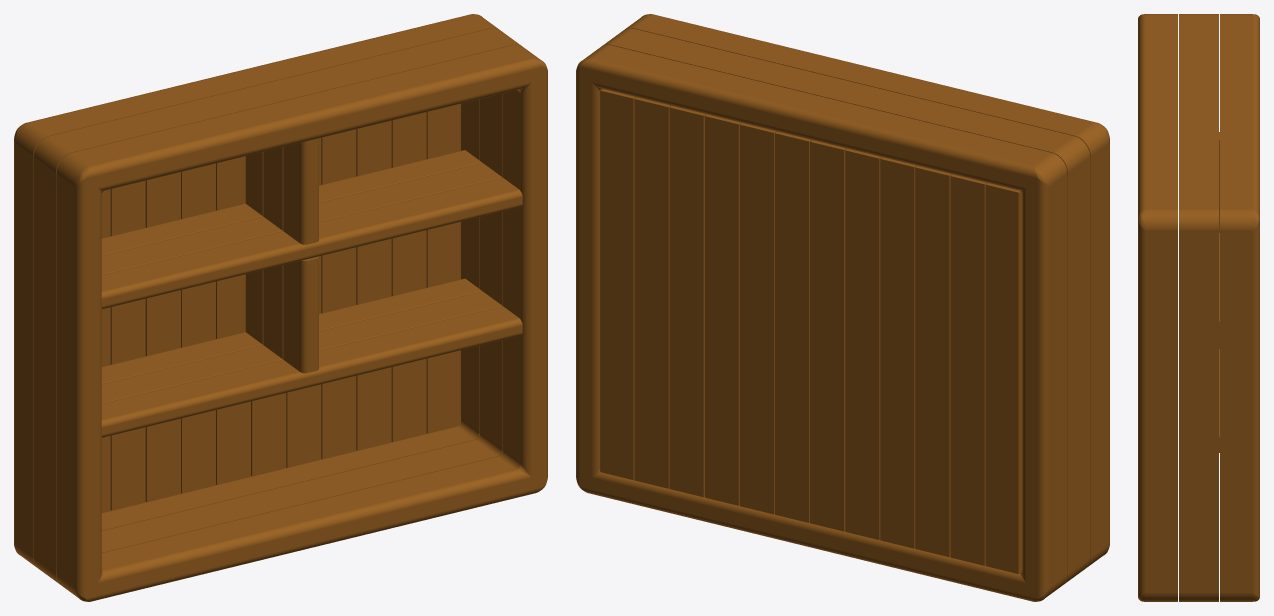
File: estanteria.glb
3 views of the same model, side by side, from view 1: azimuth 30°, elevation 25°; view 2: azimuth 150°, elevation 25°; view 3: azimuth 270°, elevation 25° (orthographic). The views are drawn at different scales.
Visible parts, largest first — view 1: Marco_tabla1, Marco_tabla2, Marco_tabla3, Repisa_Superior_tabla1, Repisa_Media_tabla1, Repisa_Superior_tabla2, Repisa_Media_tabla2, Fondo_tabla10, Fondo_tabla11, Fondo_tabla4, Fondo_tabla3, Fondo_tabla9 (+14 smaller); view 2: Marco_tabla3, Marco_tabla2, Marco_tabla1, Fondo_tabla1, Fondo_tabla2, Fondo_tabla11, Fondo_tabla3, Fondo_tabla10, Fondo_tabla4, Fondo_tabla6, Fondo_tabla5, Fondo_tabla9 (+3 smaller); view 3: Marco_tabla2, Marco_tabla1, Marco_tabla3.
Boxes of the visible parts, x1,y1,x2,y2 form: Marco_tabla1: [56, 45, 547, 601]; Marco_tabla2: [33, 28, 522, 584]; Marco_tabla3: [14, 14, 498, 567]; Repisa_Superior_tabla1: [101, 177, 522, 309]; Repisa_Media_tabla1: [101, 306, 522, 437]; Repisa_Superior_tabla2: [101, 163, 502, 275]; Repisa_Media_tabla2: [101, 291, 501, 403]; Fondo_tabla10: [356, 120, 391, 450]; Fondo_tabla11: [391, 112, 426, 442]; Fondo_tabla4: [145, 172, 180, 502]; Fondo_tabla3: [110, 180, 145, 510]; Fondo_tabla9: [321, 129, 356, 459]; Marco_tabla3: [576, 45, 1067, 601]; Marco_tabla2: [601, 28, 1090, 584]; Marco_tabla1: [625, 14, 1109, 567]; Fondo_tabla1: [985, 183, 1022, 573]; Fondo_tabla2: [950, 174, 987, 565]; Fondo_tabla11: [634, 97, 671, 488]; Fondo_tabla3: [915, 166, 952, 557]; Fondo_tabla10: [669, 106, 706, 497]; Fondo_tabla4: [880, 157, 917, 548]; Fondo_tabla6: [810, 140, 846, 531]; Fondo_tabla5: [845, 148, 882, 539]; Fondo_tabla9: [705, 114, 741, 505]; Marco_tabla2: [1179, 14, 1218, 601]; Marco_tabla1: [1138, 14, 1177, 601]; Marco_tabla3: [1220, 14, 1259, 601].
Bounding box in the file's own units: 6.15 × 5.41 × 1.53.
